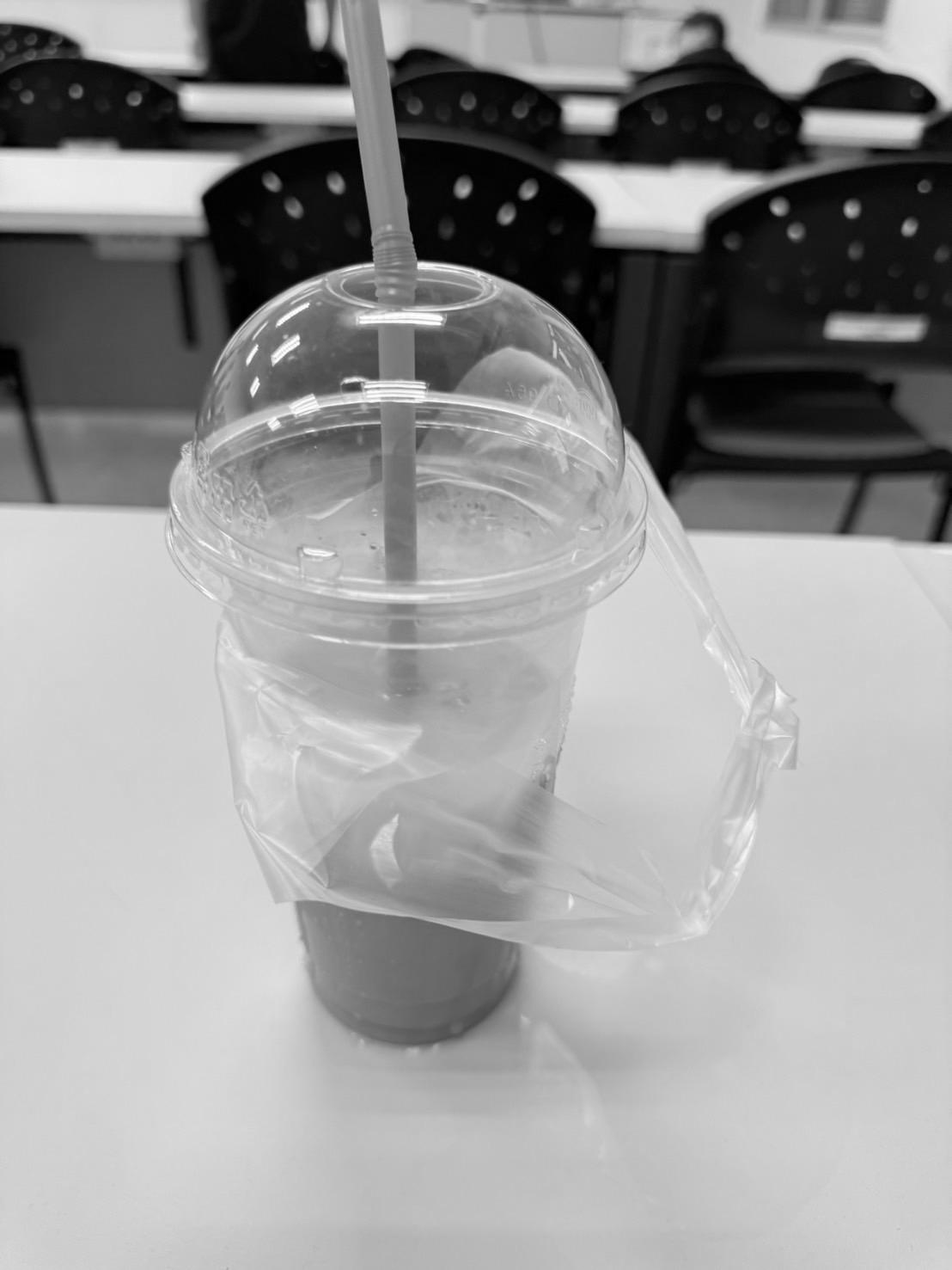glass: (167, 264, 624, 1045)
